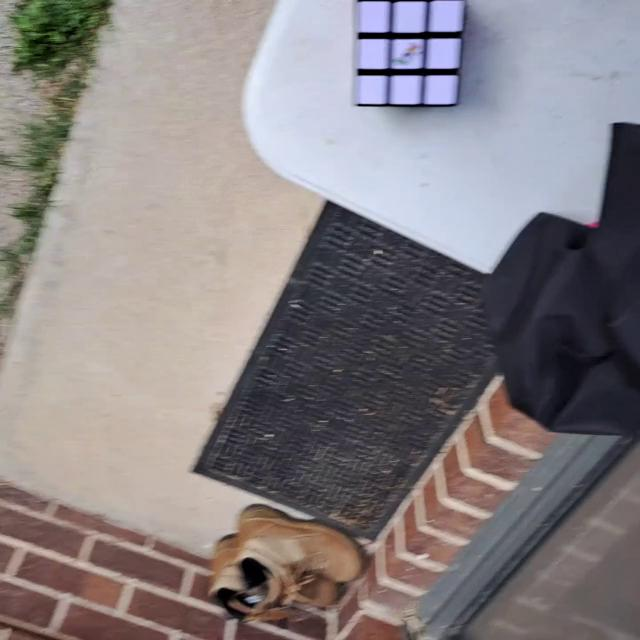rubix_cube: (348, 0, 470, 111)
